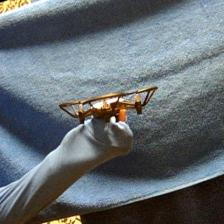drone: (55, 82, 160, 122)
